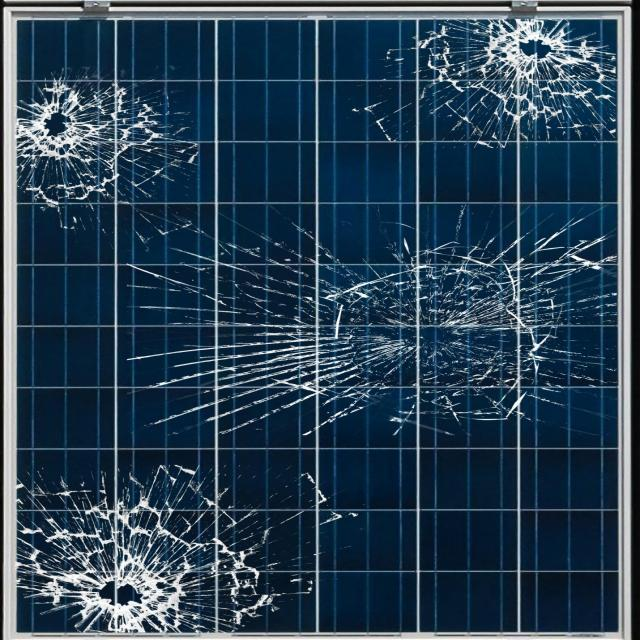faulty: (8, 6, 633, 639)
